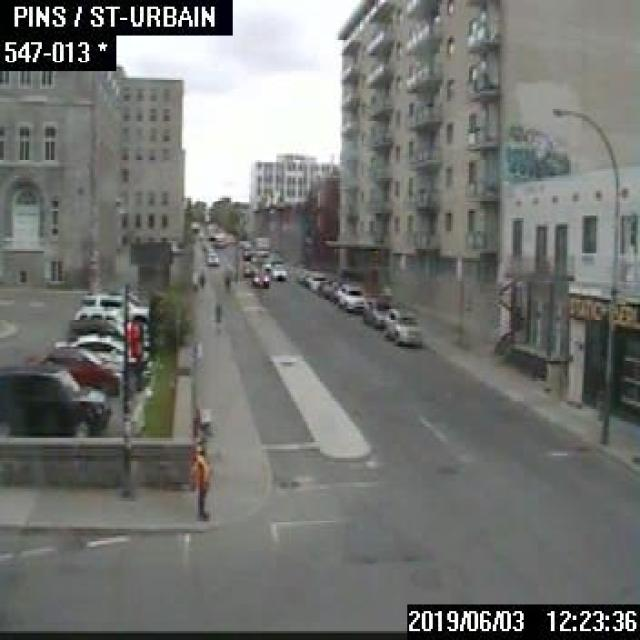pedestrian: (187, 444, 209, 518), (211, 302, 222, 336), (222, 265, 233, 291), (197, 267, 206, 291)
vehicle: (0, 364, 109, 436), (31, 345, 122, 395), (50, 332, 149, 369), (78, 286, 149, 320), (73, 304, 148, 331), (384, 308, 422, 347), (69, 316, 123, 337), (361, 294, 394, 326), (336, 283, 364, 309), (329, 280, 349, 303), (304, 270, 324, 289), (269, 262, 287, 278), (250, 269, 267, 285), (314, 278, 328, 297), (242, 260, 257, 274), (204, 250, 217, 264), (212, 233, 224, 245)
